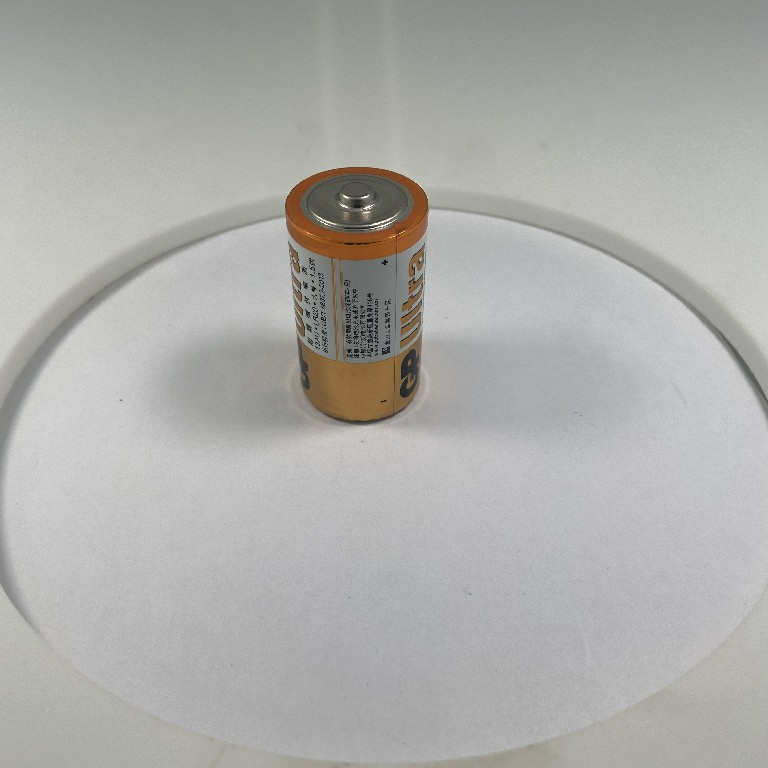charge: (280, 160, 430, 428)
